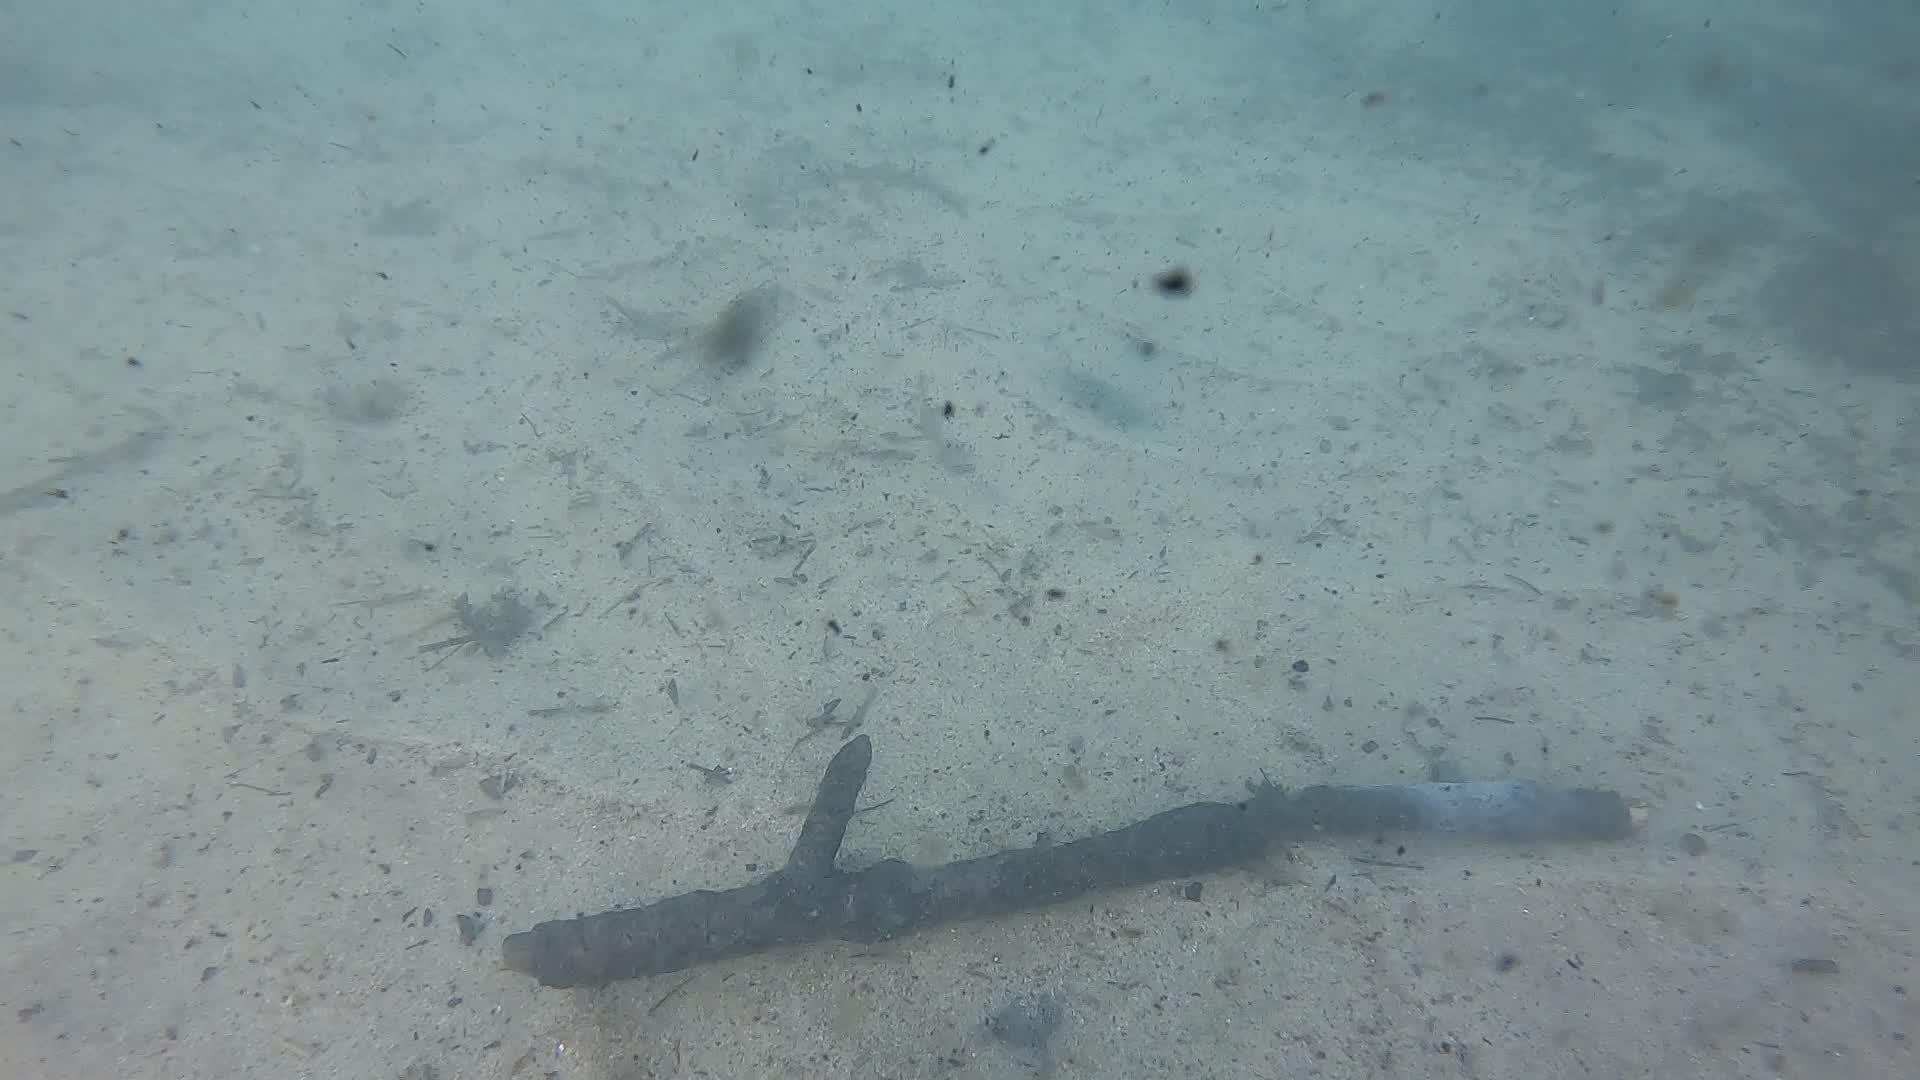wood: (501, 733, 1622, 984)
